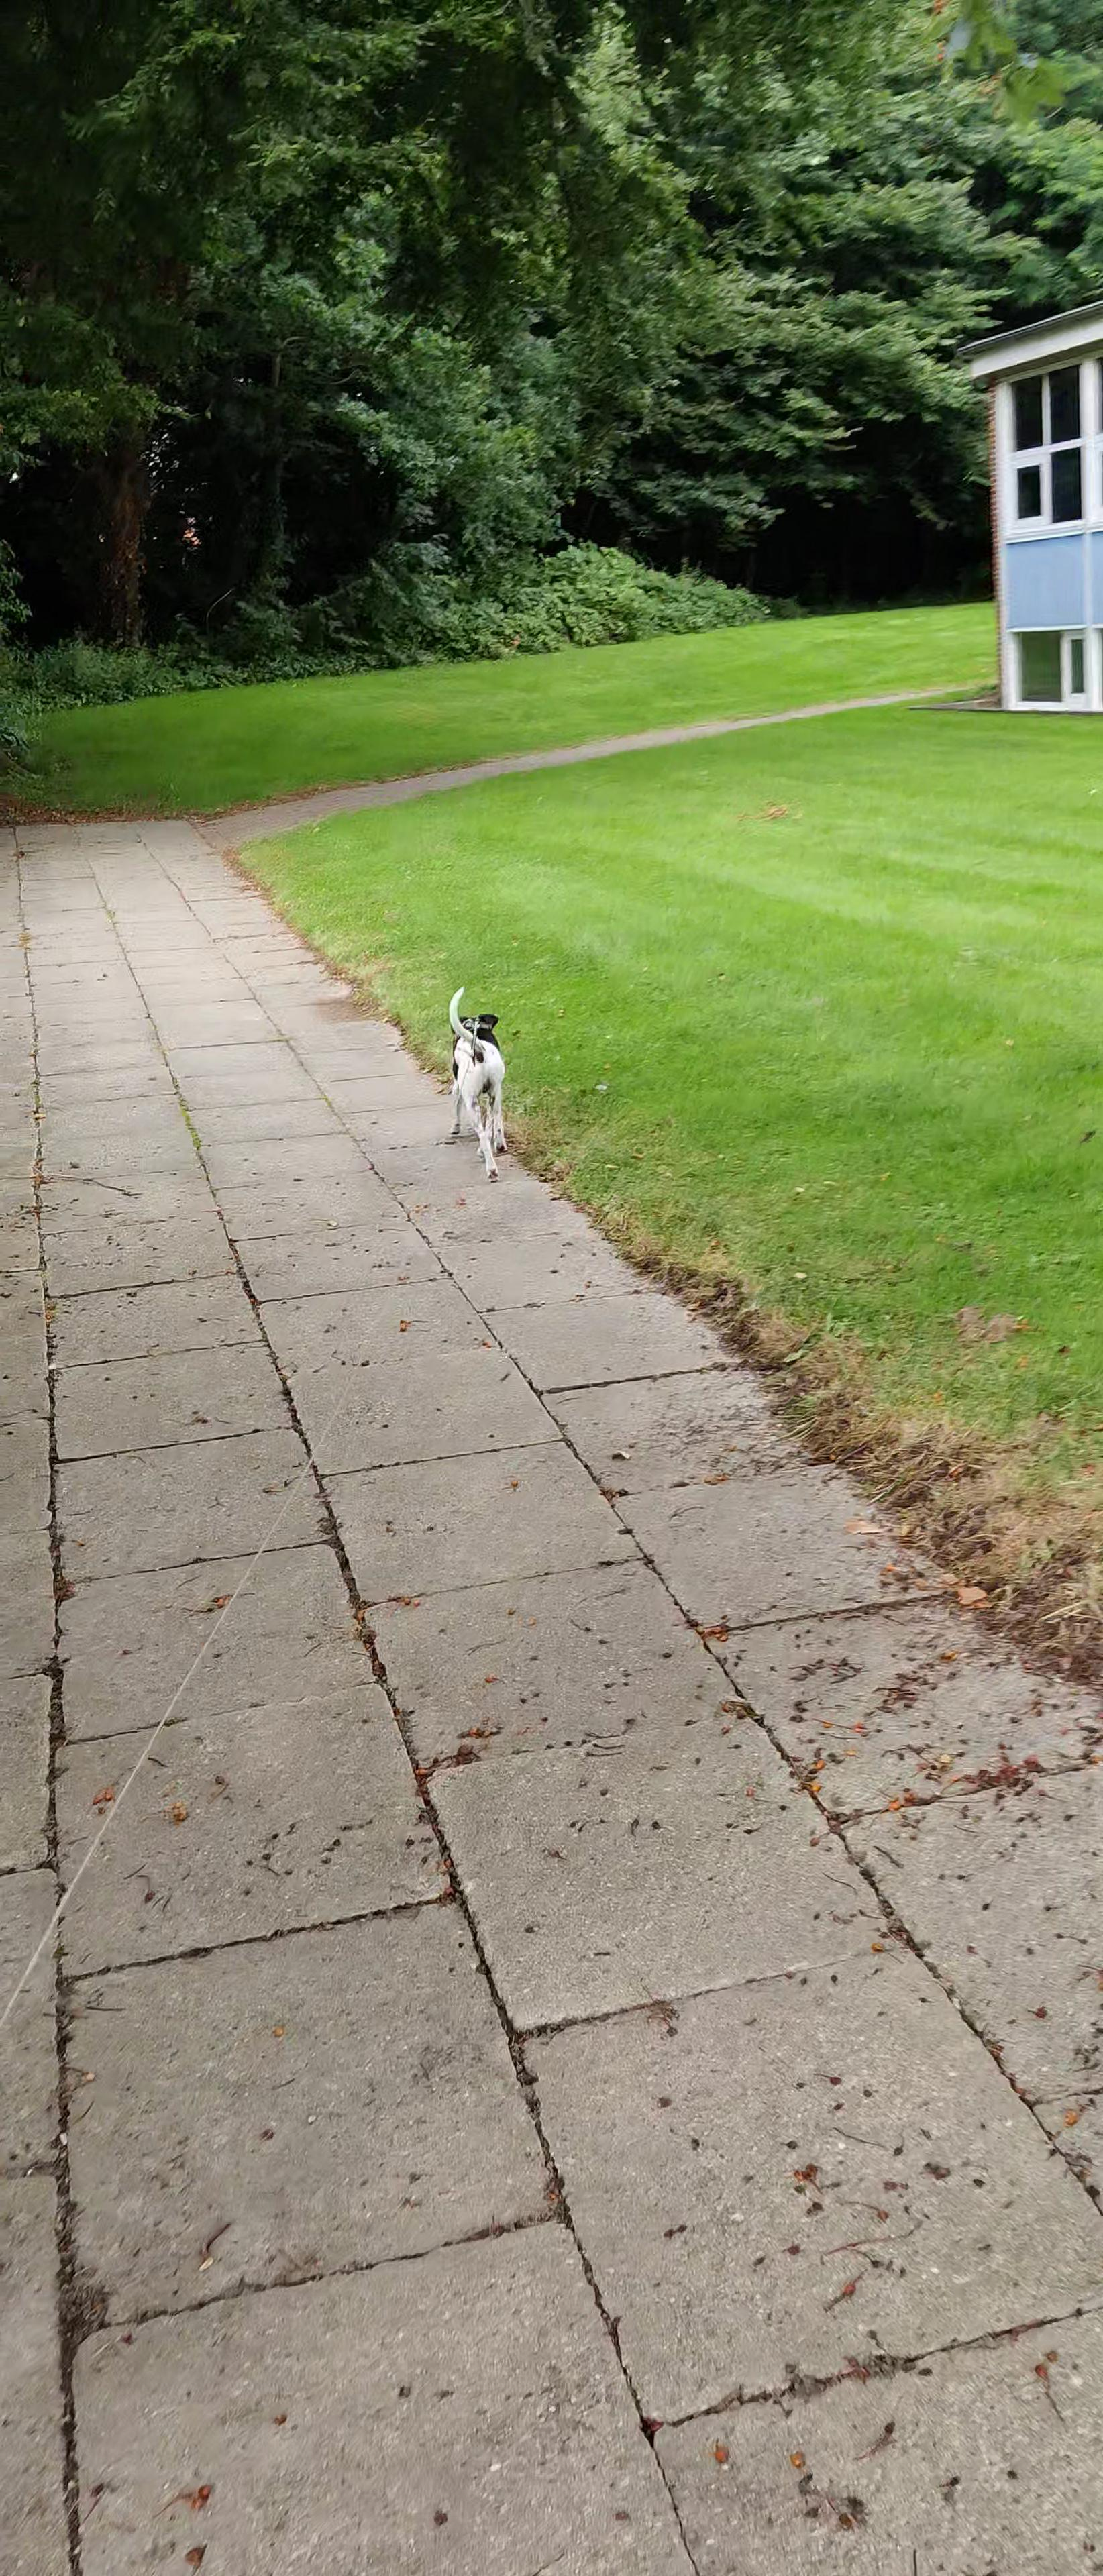Dog: (427, 973, 531, 1191)
